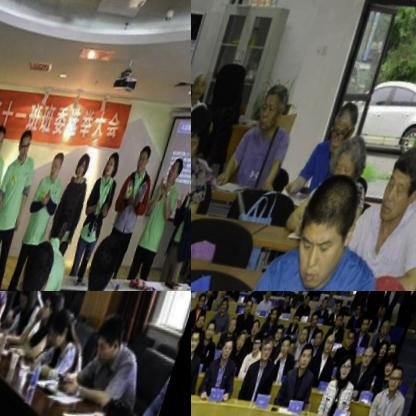head: (288, 174, 376, 291), (377, 142, 416, 239), (93, 309, 142, 381), (328, 135, 379, 200), (254, 81, 299, 142), (89, 232, 133, 291), (325, 102, 368, 161), (17, 240, 66, 291), (191, 101, 221, 173), (46, 307, 86, 361), (40, 291, 73, 336), (16, 291, 50, 320), (167, 155, 191, 193), (136, 146, 160, 181), (17, 129, 40, 163), (52, 215, 75, 248), (339, 357, 362, 388), (191, 71, 212, 102), (50, 151, 70, 182), (105, 153, 126, 182), (299, 348, 320, 377), (390, 372, 411, 401), (385, 357, 405, 386), (221, 339, 240, 368), (77, 155, 96, 183), (262, 338, 280, 367), (363, 350, 382, 376), (280, 339, 298, 364), (191, 329, 207, 357), (0, 126, 12, 160), (206, 319, 222, 344), (237, 333, 254, 356), (253, 335, 269, 359), (229, 319, 243, 339), (326, 338, 340, 358), (347, 335, 361, 355), (301, 330, 315, 349), (390, 346, 402, 367), (382, 325, 395, 344), (293, 314, 306, 332), (335, 316, 348, 334), (311, 314, 323, 333), (271, 309, 283, 327), (277, 328, 289, 346), (253, 323, 264, 342), (198, 316, 210, 333), (245, 302, 257, 319), (221, 300, 232, 317), (316, 335, 327, 352), (363, 322, 374, 339), (321, 302, 333, 317), (199, 296, 210, 312), (382, 349, 392, 365), (286, 295, 296, 309), (306, 296, 316, 310), (356, 309, 366, 323), (382, 311, 392, 325), (206, 291, 218, 302), (330, 292, 341, 304), (265, 291, 275, 304), (337, 306, 346, 319), (221, 291, 232, 300), (300, 291, 308, 299), (394, 291, 404, 296), (258, 291, 265, 296), (364, 291, 371, 294)
